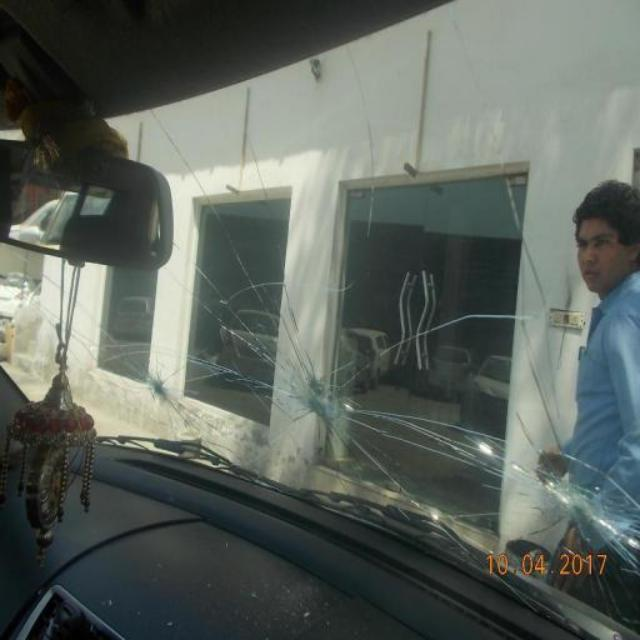glass shatter: (458, 428, 638, 566), (255, 333, 379, 456), (136, 354, 187, 416)
